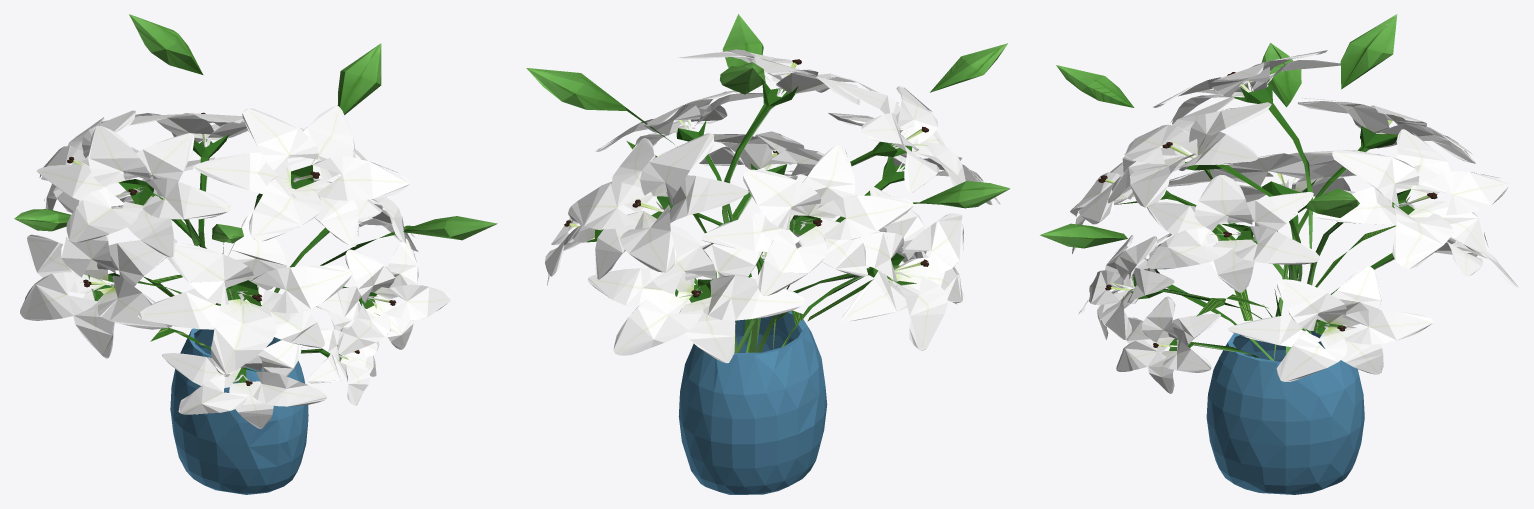
File: sh-bsby-white-lily.glb
3 renders of one model, left to right at view 1: azimuth 30°, elevation 25°; view 2: azimuth 150°, elevation 25°; view 3: azimuth 270°, elevation 25°, orthographic. The views are drawn at different scales.
Parts seen in each view (by area): view 1: Plane.018_Plane.001, Circle.001_Circle.004, Circle.009_Circle.002, Cube.026_Cube.018, Cube.027_Cube.014, Plane.025_Plane.007; view 2: Plane.018_Plane.001, Circle.001_Circle.004, Circle.009_Circle.002, Cube.026_Cube.018, Cube.027_Cube.014, Plane.025_Plane.007; view 3: Plane.018_Plane.001, Circle.001_Circle.004, Circle.009_Circle.002, Cube.026_Cube.018, Plane.025_Plane.007, Cube.027_Cube.014.
Part boxes in pixels (bbox=[...]): Plane.018_Plane.001: bbox=[20, 105, 450, 428]; Circle.001_Circle.004: bbox=[170, 328, 308, 494]; Circle.009_Circle.002: bbox=[14, 14, 497, 305]; Cube.026_Cube.018: bbox=[88, 134, 379, 382]; Cube.027_Cube.014: bbox=[67, 112, 396, 385]; Plane.025_Plane.007: bbox=[143, 225, 413, 349]; Plane.018_Plane.001: bbox=[544, 49, 1000, 363]; Circle.001_Circle.004: bbox=[678, 311, 827, 494]; Circle.009_Circle.002: bbox=[526, 14, 1009, 339]; Cube.026_Cube.018: bbox=[586, 83, 916, 352]; Cube.027_Cube.014: bbox=[564, 59, 928, 297]; Plane.025_Plane.007: bbox=[626, 141, 920, 325]; Plane.018_Plane.001: bbox=[1070, 50, 1518, 393]; Circle.001_Circle.004: bbox=[1206, 329, 1364, 494]; Circle.009_Circle.002: bbox=[1040, 14, 1397, 317]; Cube.026_Cube.018: bbox=[1116, 84, 1436, 360]; Plane.025_Plane.007: bbox=[1196, 169, 1395, 320]; Cube.027_Cube.014: bbox=[1098, 72, 1437, 347].
Size of the model in its own units: 0.993 by 0.997 by 1.
7 materials, 5 textured.
